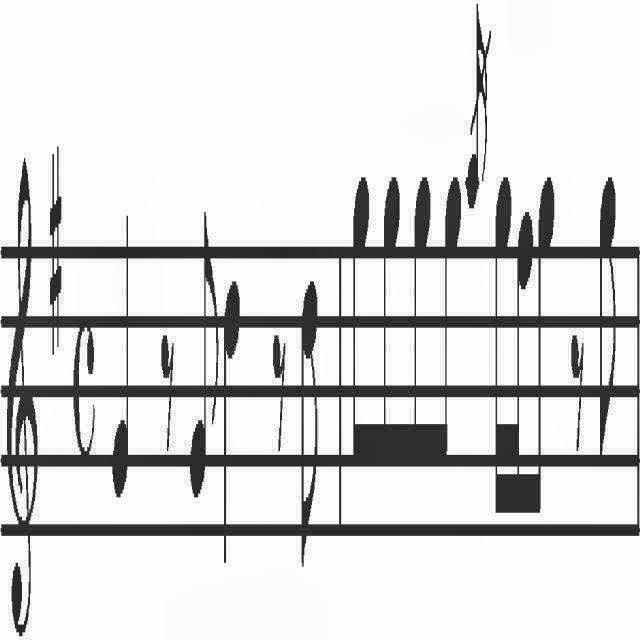Bass-clef: (1, 116, 38, 640)
Diez: (48, 133, 64, 340)
Eighth-note: (403, 160, 437, 508), (294, 252, 326, 604), (184, 198, 220, 510), (532, 143, 556, 542), (346, 150, 374, 490), (594, 145, 620, 487), (379, 158, 403, 494), (440, 158, 464, 466)
Eighth-rest: (562, 319, 588, 477), (270, 292, 290, 468), (159, 290, 177, 470)
Quarter-note: (105, 174, 136, 530), (220, 280, 248, 576)
Sixteenth-note: (492, 155, 512, 557), (513, 204, 531, 526)
